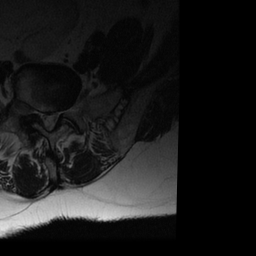CCS_normal: (46, 108, 52, 136)
LFS_severe_stenosis: (59, 103, 65, 120)
LLS_normal: (52, 107, 59, 130)
RFS_severe_stenosis: (33, 104, 40, 120)
RLS_normal: (40, 106, 46, 130)
